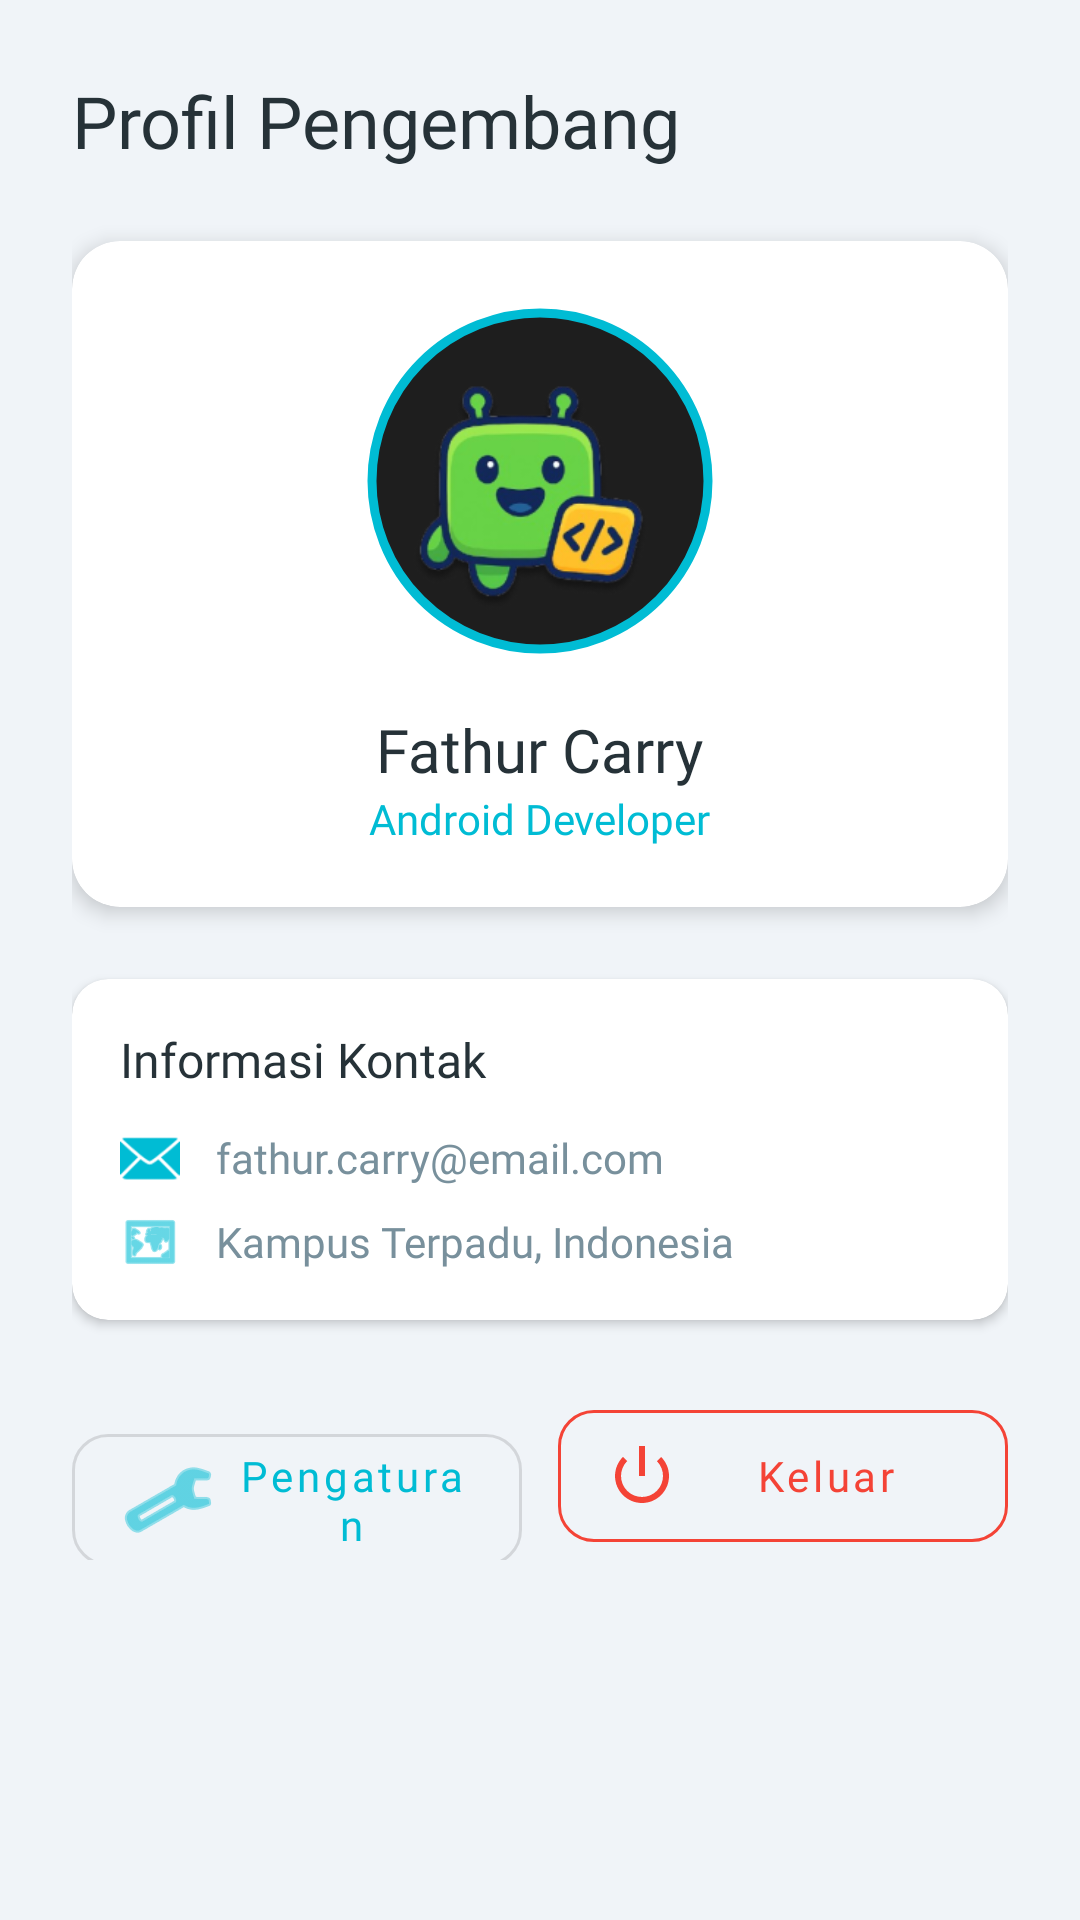

Screen size 1080 × 1920. Icon name, then its center in pixels as point (x, y):
mapmode: point (150, 1242)
